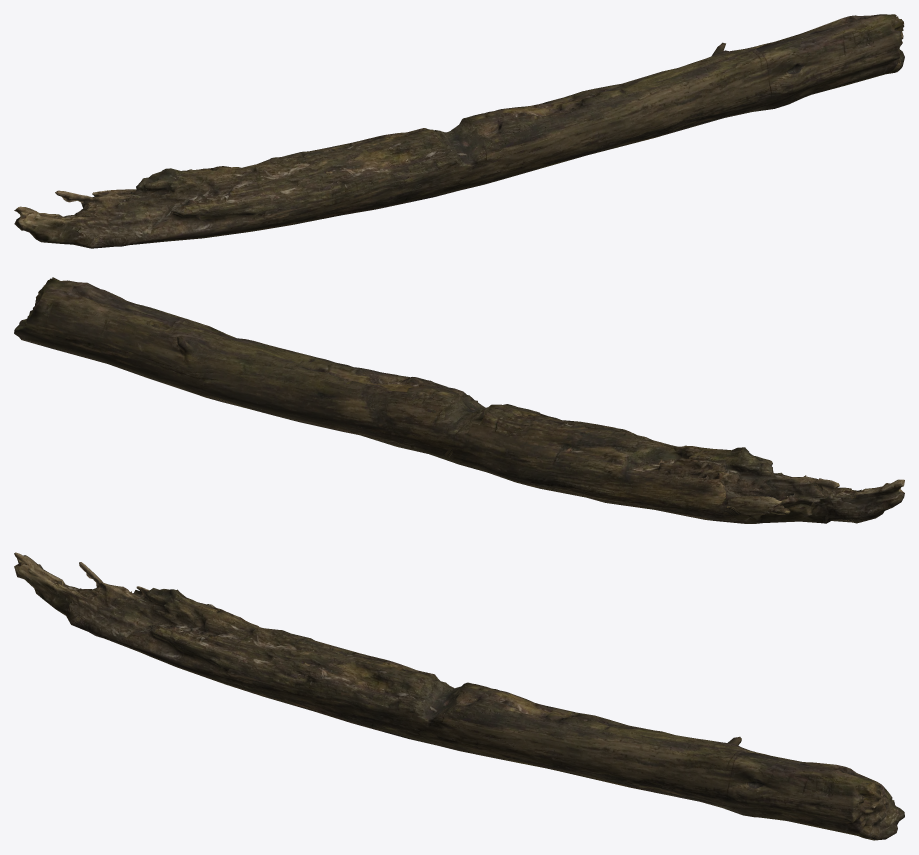
The model's file is dead_tree_trunk.glb.
3 views of the same model, one above another, from view 1: azimuth 30°, elevation 25°; view 2: azimuth 150°, elevation 25°; view 3: azimuth 330°, elevation 25° (orthographic).
Visible parts, largest first — view 1: dead_tree_trunk; view 2: dead_tree_trunk; view 3: dead_tree_trunk.
Part boxes in pixels (left/top/right/bottom): dead_tree_trunk: left=14, top=14, right=904, bottom=248; dead_tree_trunk: left=14, top=277, right=904, bottom=523; dead_tree_trunk: left=14, top=552, right=904, bottom=840.
Size of the model in its own units: 3.05 by 0.2905 by 0.2775.
1 material, 1 textured.
